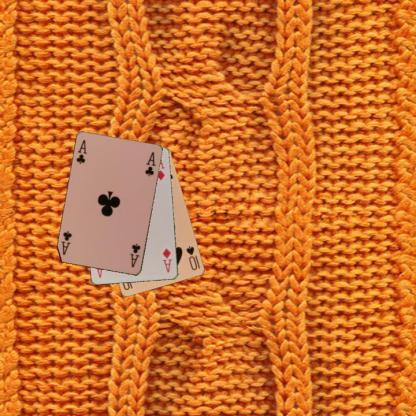10s: (184, 243, 202, 272)
Ac: (128, 241, 142, 269), (74, 137, 88, 165)
Ad: (160, 245, 173, 274)
